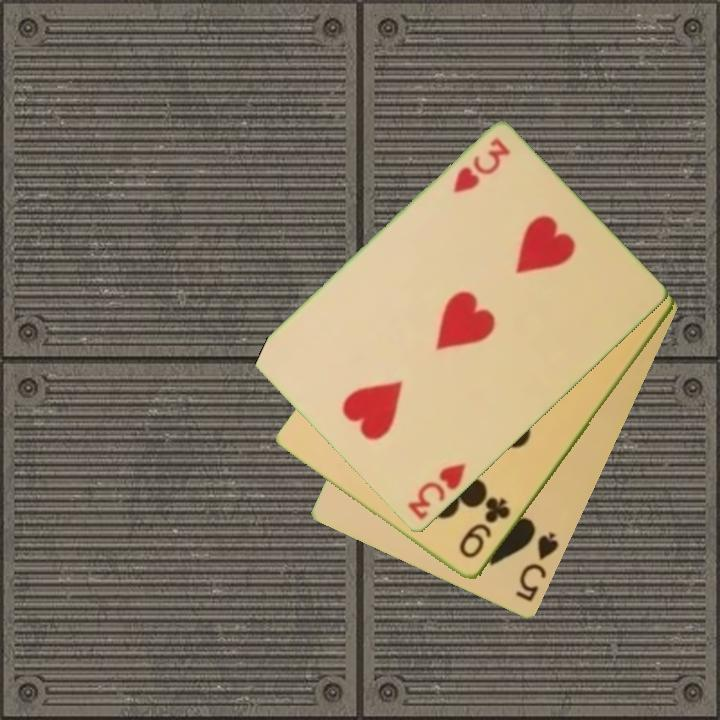3h: (404, 460, 469, 523), (449, 134, 514, 197)
5s: (512, 529, 562, 605)
9c: (455, 494, 514, 562)
